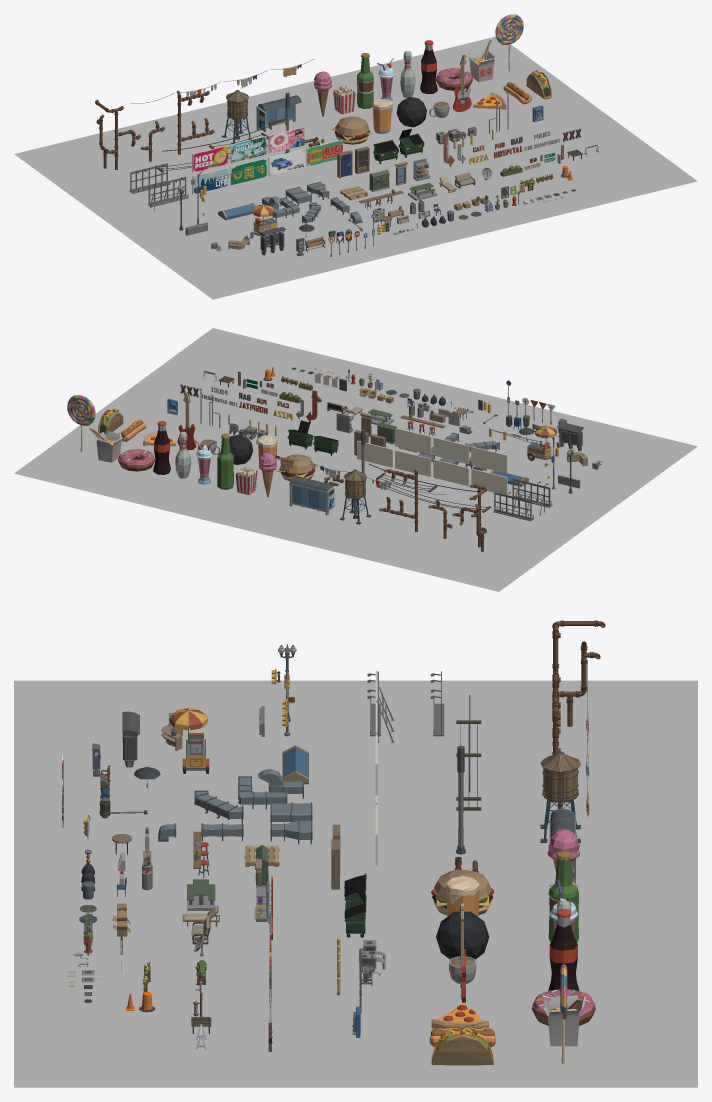
The model's file is POLYGON_-_City_Props.glb.
3 renders of one model, top to bottom at view 1: azimuth 30°, elevation 25°; view 2: azimuth 150°, elevation 25°; view 3: azimuth 270°, elevation 25°, orthographic. The views are drawn at different scales.
Visible parts, largest first — view 1: polySurface2144_lambert1_0, polySurface1815_PolygonCity_Mat_01_A_0, polySurface1436_PolygonCity_Mat_01_A_0, polySurface1855_PolygonCity_Mat_01_A_0, polySurface1417_Billboard_Mat_0, polySurface1697_Billboard_Mat_0, polySurface1666_Billboard_Mat_0, polySurface1810_PolygonCity_Mat_01_A_0, polySurface1084_Billboard_Mat_0, polySurface1641_PolygonCity_Mat_01_A_0, polySurface2050_Billboard_Mat_0, polySurface1788_PolygonCity_Mat_01_A_0 (+7 smaller); view 2: polySurface2144_lambert1_0, polySurface1436_PolygonCity_Mat_01_A_0, polySurface1084_Billboard_Mat_0, polySurface1417_Billboard_Mat_0, polySurface1610_Billboard_Mat_0, polySurface1666_Billboard_Mat_0, polySurface1697_Billboard_Mat_0, polySurface1641_PolygonCity_Mat_01_A_0, polySurface1810_PolygonCity_Mat_01_A_0, polySurface1646_PolygonCity_Mat_01_A_0, polySurface1788_PolygonCity_Mat_01_A_0, polySurface1322_Billboard_Mat_0 (+9 smaller); view 3: polySurface2144_lambert1_0, polySurface1855_PolygonCity_Mat_01_A_0, polySurface2136_PolygonCity_Mat_01_A_0, polySurface1641_PolygonCity_Mat_01_A_0, polySurface1788_PolygonCity_Mat_01_A_0, polySurface1436_PolygonCity_Mat_01_A_0, polySurface1825_PolygonCity_Mat_01_A_0, polySurface1815_PolygonCity_Mat_01_A_0, polySurface1741_PolygonCity_Mat_01_A_0, polySurface1646_PolygonCity_Mat_01_A_0, polySurface1271_PolygonCity_Mat_01_A_0, polySurface1291_PolygonCity_Mat_01_A_0 (+4 smaller).
Boxes of the visible parts, x1,y1,x2,y2 form: polySurface2144_lambert1_0: (14, 36, 697, 299); polySurface1815_PolygonCity_Mat_01_A_0: (334, 116, 369, 144); polySurface1436_PolygonCity_Mat_01_A_0: (357, 57, 373, 108); polySurface1855_PolygonCity_Mat_01_A_0: (396, 97, 426, 127); polySurface1417_Billboard_Mat_0: (268, 127, 304, 153); polySurface1697_Billboard_Mat_0: (268, 149, 304, 175); polySurface1666_Billboard_Mat_0: (230, 136, 266, 162); polySurface1810_PolygonCity_Mat_01_A_0: (495, 14, 523, 45); polySurface1084_Billboard_Mat_0: (192, 145, 228, 172); polySurface1641_PolygonCity_Mat_01_A_0: (420, 45, 437, 93); polySurface2050_Billboard_Mat_0: (306, 139, 342, 166); polySurface1788_PolygonCity_Mat_01_A_0: (468, 50, 495, 82); polySurface2144_lambert1_0: (14, 328, 697, 591); polySurface1436_PolygonCity_Mat_01_A_0: (217, 438, 233, 489); polySurface1084_Billboard_Mat_0: (471, 446, 507, 473); polySurface1417_Billboard_Mat_0: (395, 428, 431, 454); polySurface1610_Billboard_Mat_0: (433, 459, 469, 486); polySurface1666_Billboard_Mat_0: (433, 437, 469, 463); polySurface1697_Billboard_Mat_0: (395, 450, 431, 476); polySurface1641_PolygonCity_Mat_01_A_0: (153, 425, 170, 474); polySurface1810_PolygonCity_Mat_01_A_0: (67, 395, 95, 425); polySurface1646_PolygonCity_Mat_01_A_0: (118, 449, 154, 471); polySurface1788_PolygonCity_Mat_01_A_0: (95, 431, 122, 462); polySurface1322_Billboard_Mat_0: (471, 468, 507, 494); polySurface2144_lambert1_0: (14, 680, 697, 1087); polySurface1855_PolygonCity_Mat_01_A_0: (436, 911, 489, 959); polySurface2136_PolygonCity_Mat_01_A_0: (431, 1028, 493, 1065); polySurface1641_PolygonCity_Mat_01_A_0: (548, 917, 579, 990); polySurface1788_PolygonCity_Mat_01_A_0: (543, 995, 585, 1046); polySurface1436_PolygonCity_Mat_01_A_0: (548, 858, 578, 941); polySurface1825_PolygonCity_Mat_01_A_0: (445, 876, 479, 916); polySurface1815_PolygonCity_Mat_01_A_0: (432, 869, 493, 915); polySurface1741_PolygonCity_Mat_01_A_0: (543, 769, 577, 800); polySurface1646_PolygonCity_Mat_01_A_0: (532, 989, 595, 1025); polySurface1271_PolygonCity_Mat_01_A_0: (547, 829, 579, 876); polySurface1291_PolygonCity_Mat_01_A_0: (239, 777, 287, 804).
Size of the model in its own units: 57.21 by 7.35 by 40.63.
4 materials, 3 textured.
